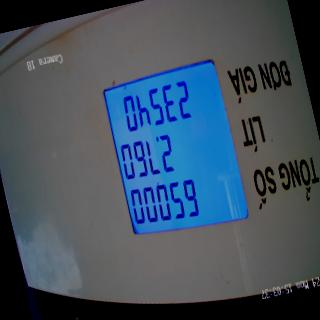screen: (96, 52, 252, 246)
